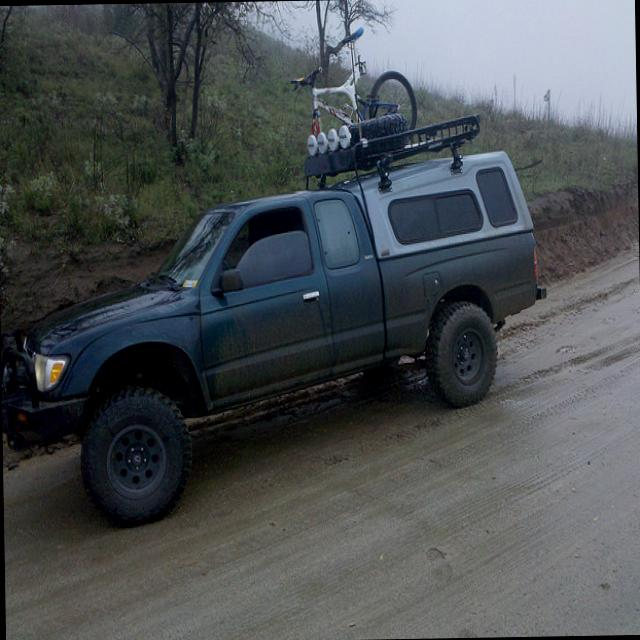Vehicle: (0, 148, 550, 526)
